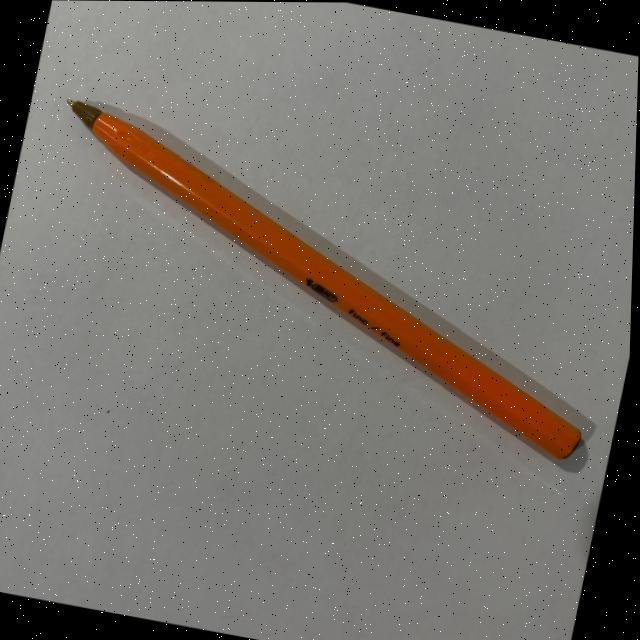pencil: (66, 97, 584, 460)
